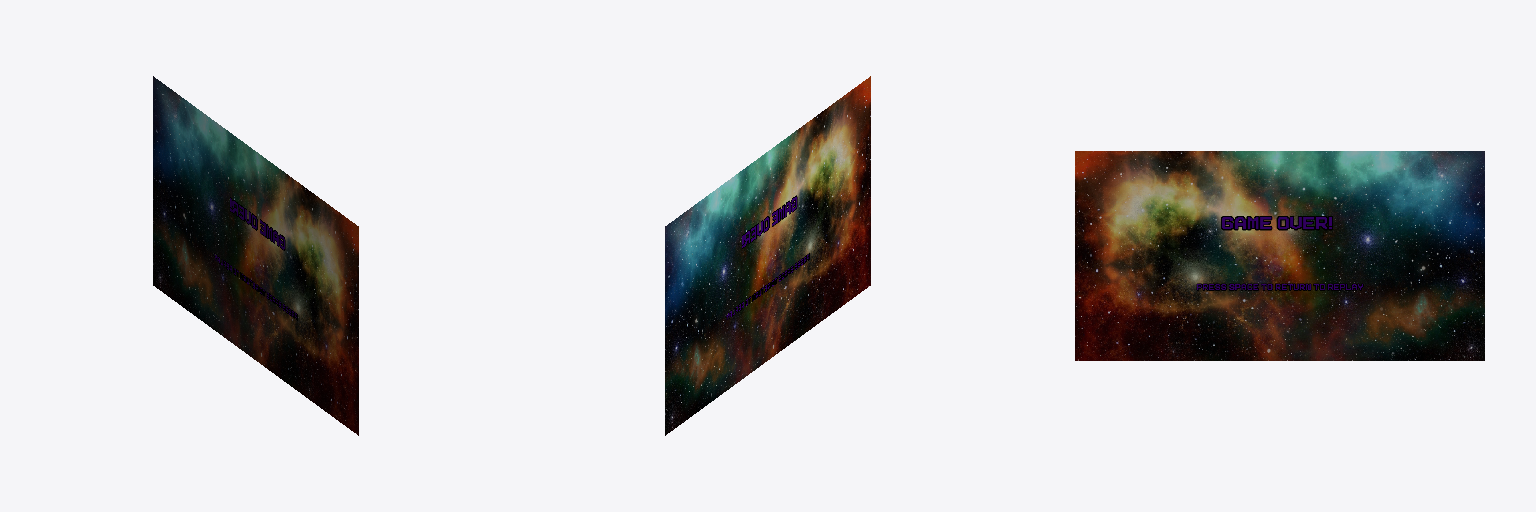
The picture shows the model from 3 angles: view 1: azimuth 30°, elevation 25°; view 2: azimuth 150°, elevation 25°; view 3: azimuth 270°, elevation 25°; orthographic projection.
Visible parts, largest first — view 1: Fläche; view 2: Fläche; view 3: Fläche.
Boxes of the visible parts, box(x1,y1,x2,y2) form: Fläche: box(153, 76, 358, 435); Fläche: box(665, 76, 870, 435); Fläche: box(1075, 151, 1484, 360).
Size of the model in its own units: 0 by 18 by 32.
1 materials, 1 textured.